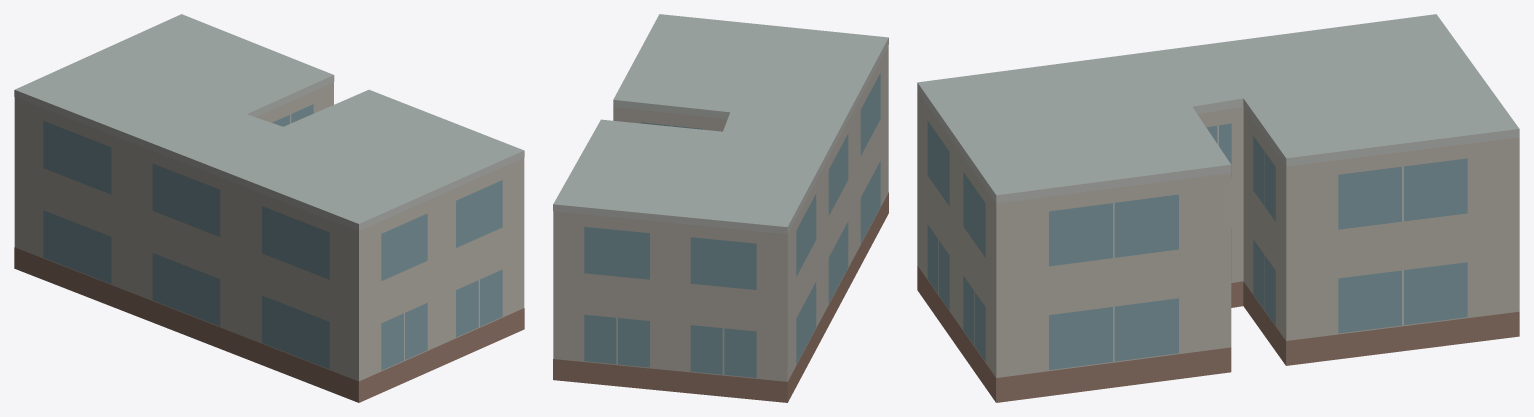
The model's file is survey-upis-32653175.glb.
3 renders of one model, left to right at view 1: azimuth 30°, elevation 25°; view 2: azimuth 150°, elevation 25°; view 3: azimuth 270°, elevation 25°, orthographic. The views are drawn at different scales.
Visible parts, largest first — view 1: survey-upis-32653175.tmp; view 2: survey-upis-32653175.tmp; view 3: survey-upis-32653175.tmp.
Boxes of the visible parts, x1,y1,x2,y2 form: survey-upis-32653175.tmp: (14,14,524,402); survey-upis-32653175.tmp: (553,14,888,402); survey-upis-32653175.tmp: (917,14,1519,402).
Bounding box in the file's own units: 11.44 × 6.1 × 16.05.
